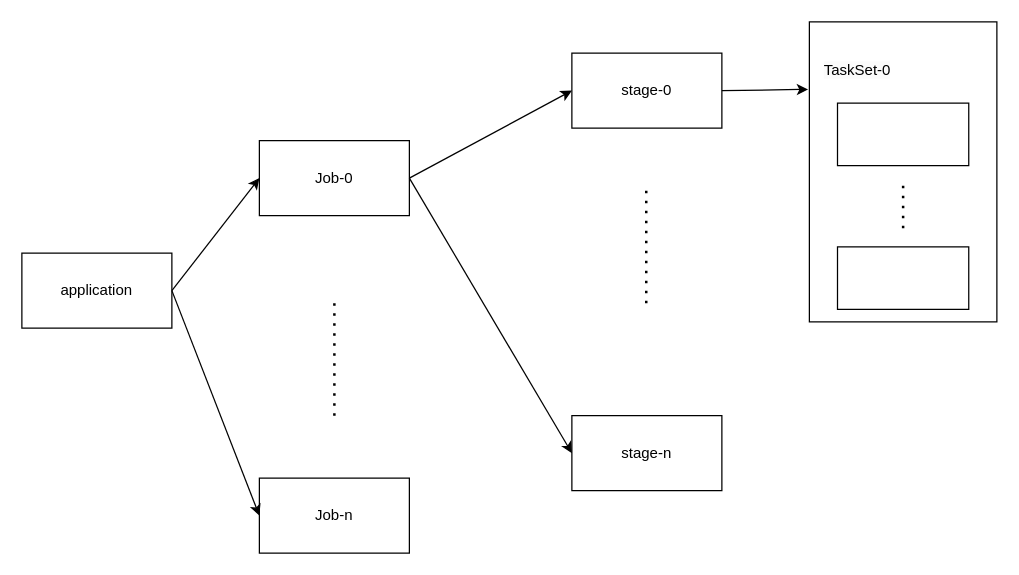
The diagram is 1019 pixels wide and 575 high, and some of its shapes have lost their labels. Each missing label, with the box of its shape:
Task-0: (836, 102, 969, 166)
Task-n: (836, 246, 969, 309)
